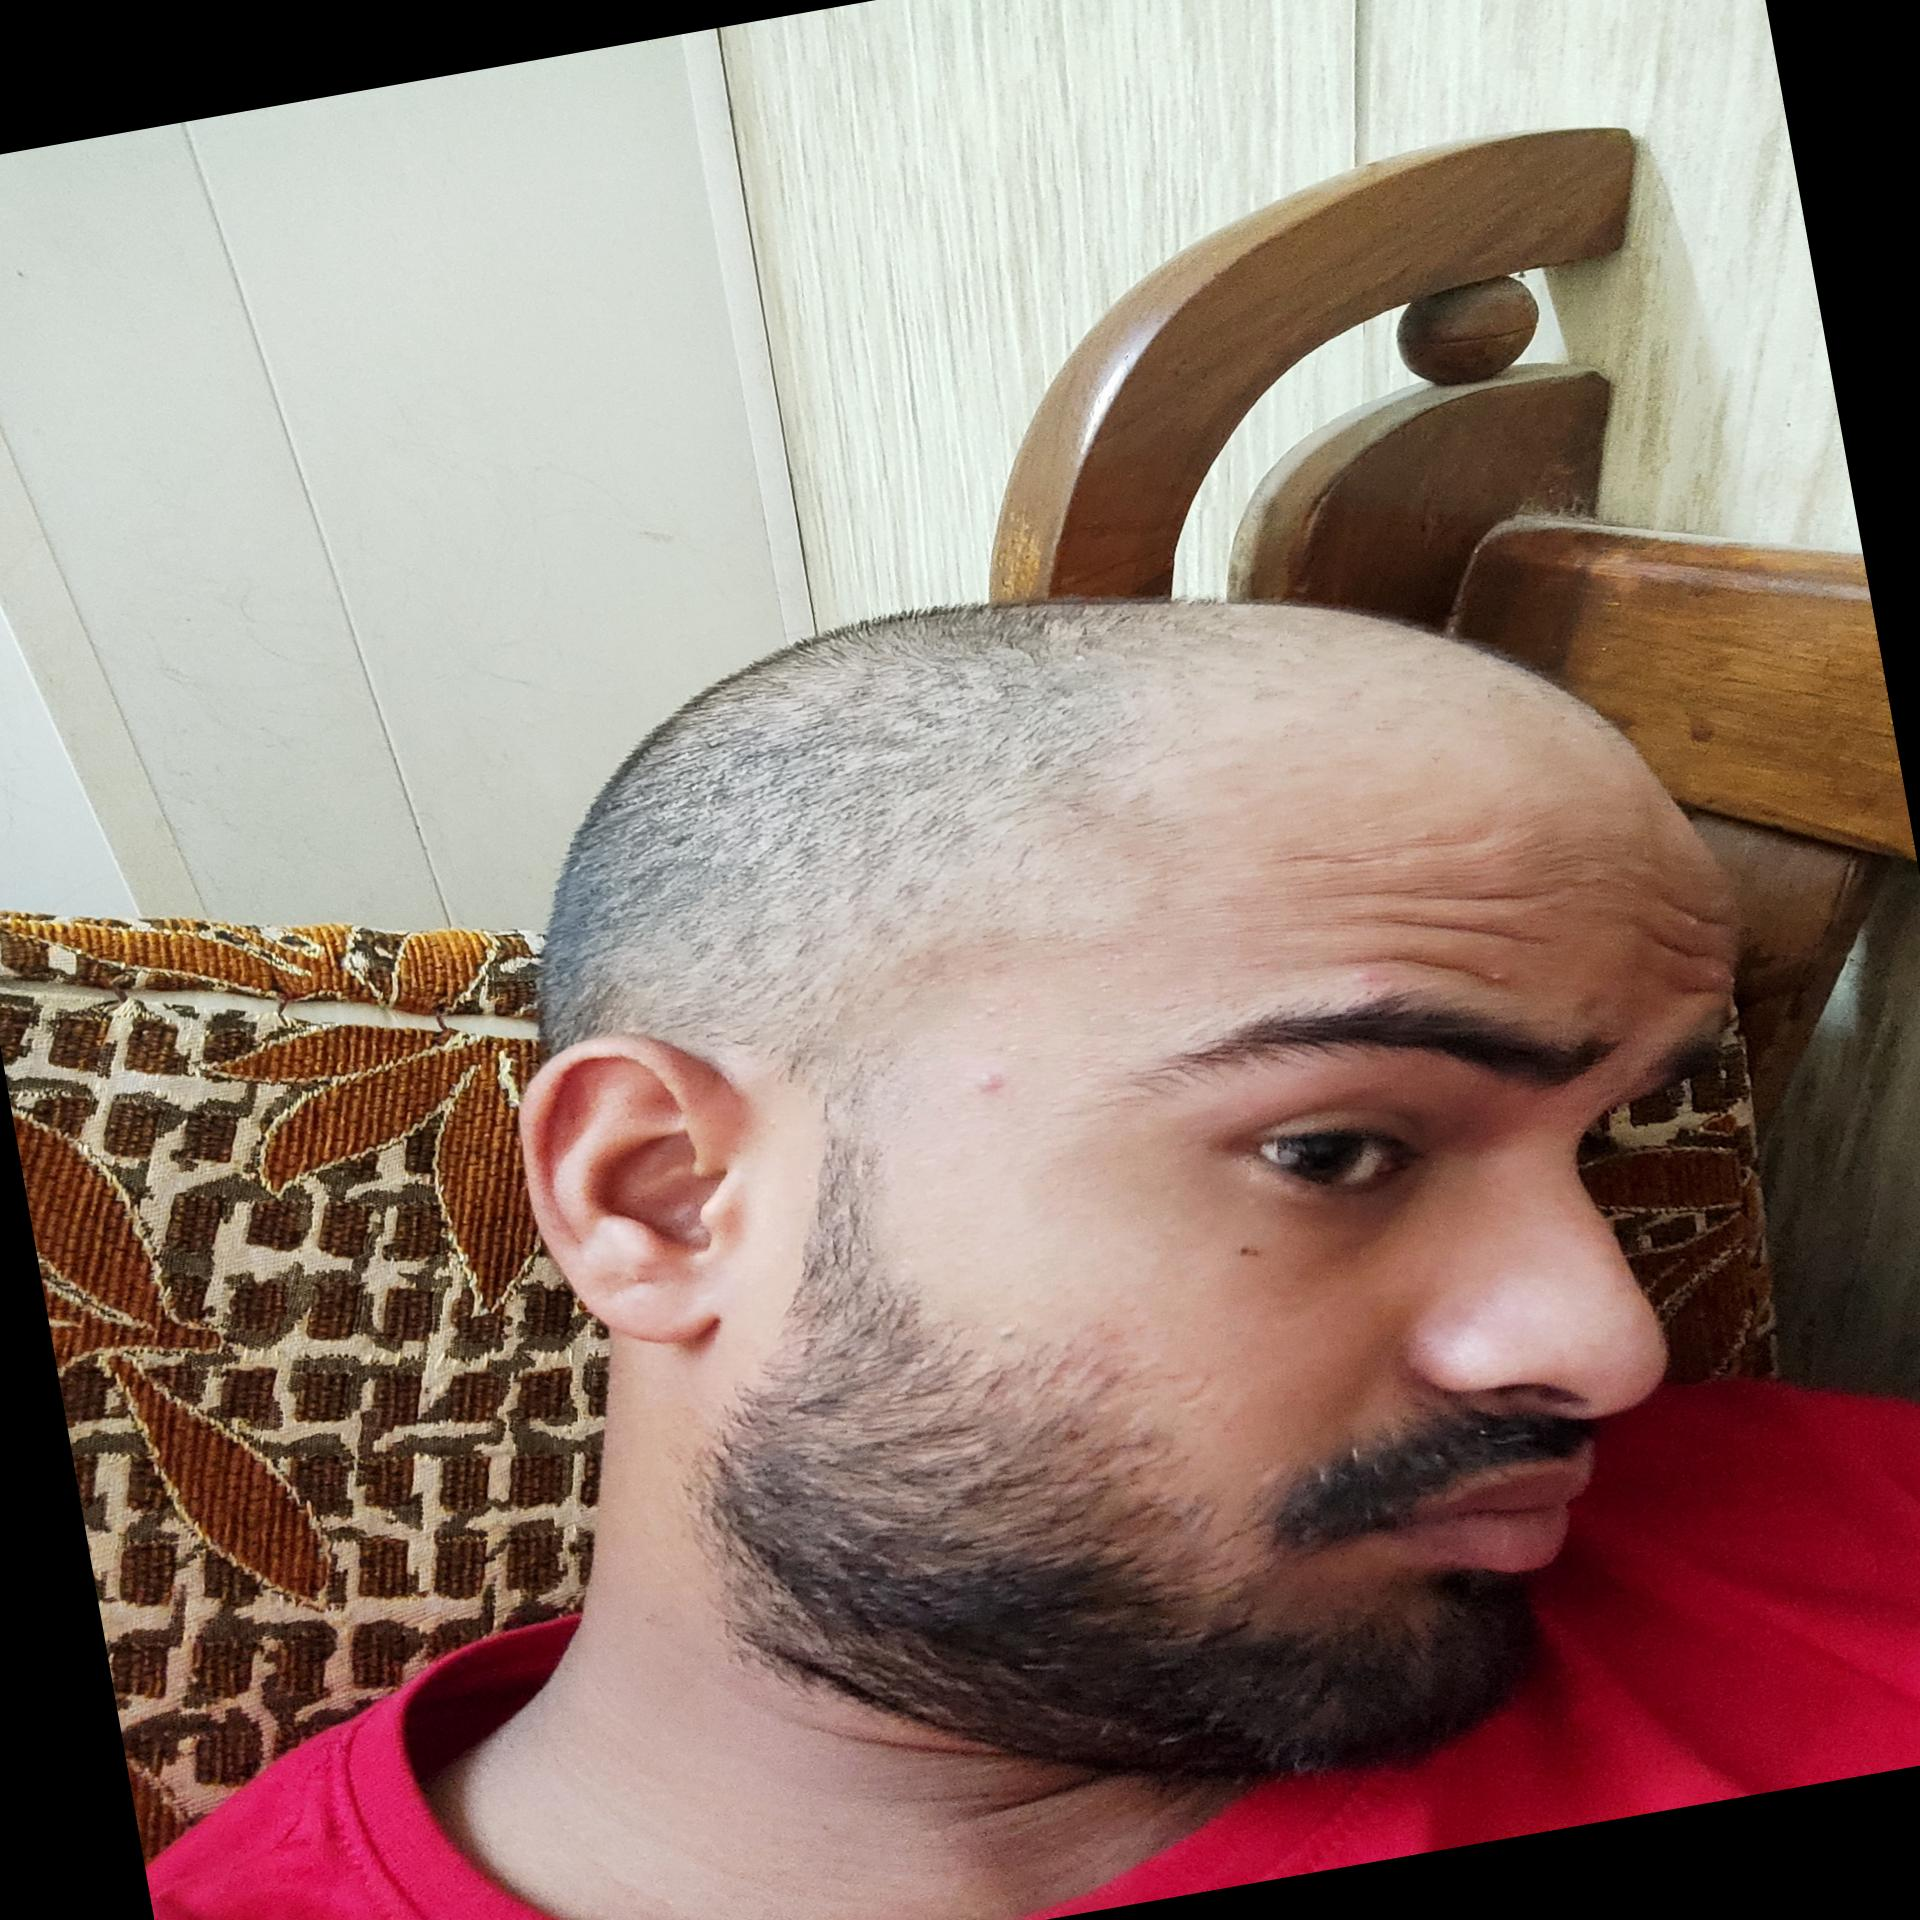Acne: (1051, 1301, 1159, 1400)
Blackhead: (962, 1060, 1020, 1104)
Wrinkles: (1294, 804, 1607, 1022), (1614, 867, 1746, 1025)
